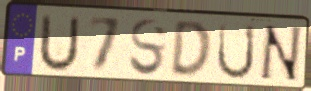7: (88, 15, 122, 76)
D: (168, 19, 214, 81)
N: (256, 24, 304, 84)
S: (127, 17, 169, 79)
U: (35, 12, 82, 75), (214, 21, 258, 82)
